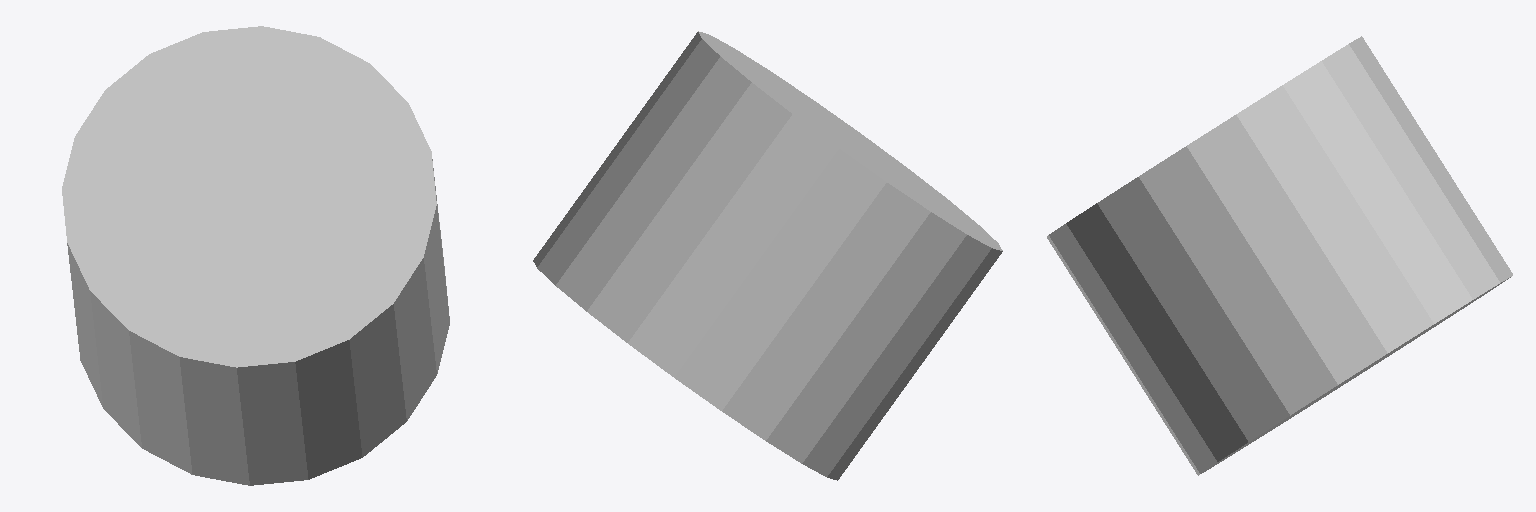
Rendered from Nervio_supraclavicular_D_1.obj.
3 renders of one model, left to right at view 1: azimuth 30°, elevation 25°; view 2: azimuth 150°, elevation 25°; view 3: azimuth 270°, elevation 25°, orthographic.
Visible parts, largest first — view 1: polySurface16 polySurface16 MArcadores_; view 2: polySurface16 polySurface16 MArcadores_; view 3: polySurface16 polySurface16 MArcadores_.
Part boxes in pixels (x1,y1,x2,y2): polySurface16 polySurface16 MArcadores_: (62,26,449,485); polySurface16 polySurface16 MArcadores_: (533,31,1002,480); polySurface16 polySurface16 MArcadores_: (1047,36,1512,475).
Bounding box in the file's own units: 0.0334 × 0.0341 × 0.0347.